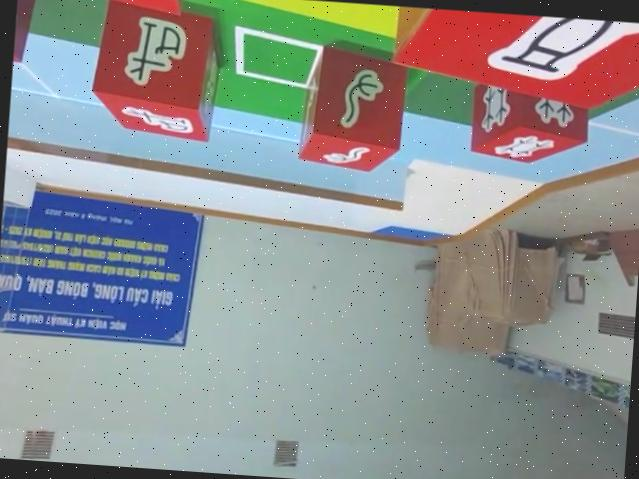R2 Real: (377, 4, 639, 116), (84, 0, 225, 145), (464, 51, 596, 171), (295, 40, 407, 177)
